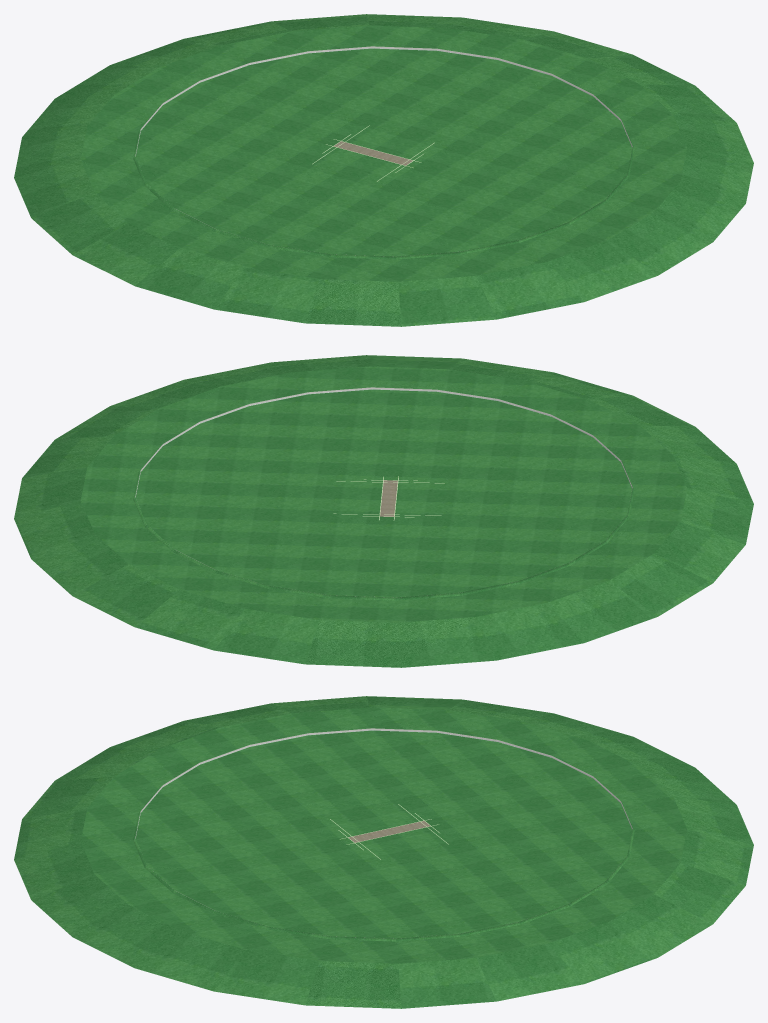
File: stadium2.glb
3 renders of one model, top to bottom at view 1: azimuth 30°, elevation 25°; view 2: azimuth 150°, elevation 25°; view 3: azimuth 270°, elevation 25°, orthographic.
Parts seen in each view (by area): view 1: Component#15; view 2: Component#15; view 3: Component#15.
Boxes of the visible parts, left/top/right/bottom form: Component#15: left=14, top=14, right=753, bottom=326; Component#15: left=14, top=355, right=753, bottom=667; Component#15: left=14, top=696, right=753, bottom=1008.
Bounding box in the file's own units: 191 × 5.42 × 191.
Materials: 4 (3 with a texture image).
